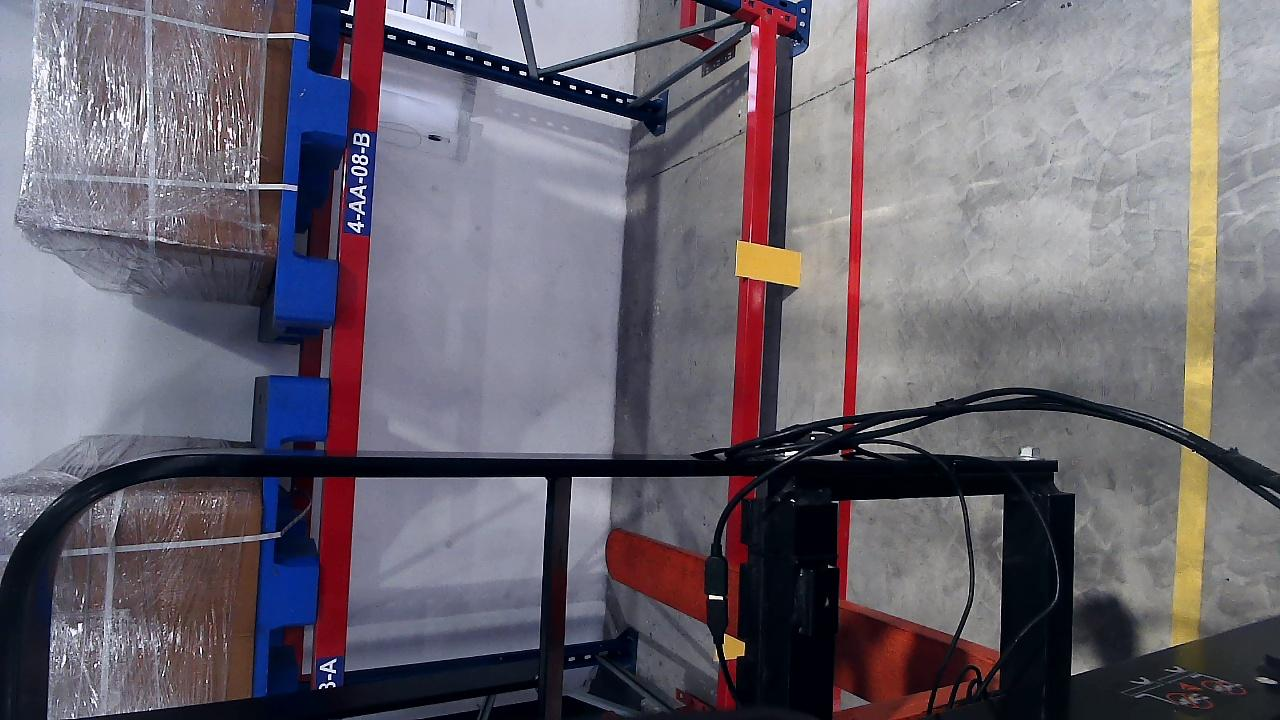h_rack: (323, 0, 390, 693), (734, 8, 780, 441)
orange_strip: (735, 241, 801, 287)
red_line: (842, 6, 868, 416)
small_pallet: (269, 0, 365, 319), (249, 375, 326, 689)
yellow_line: (1180, 0, 1221, 438), (1171, 448, 1211, 653)
